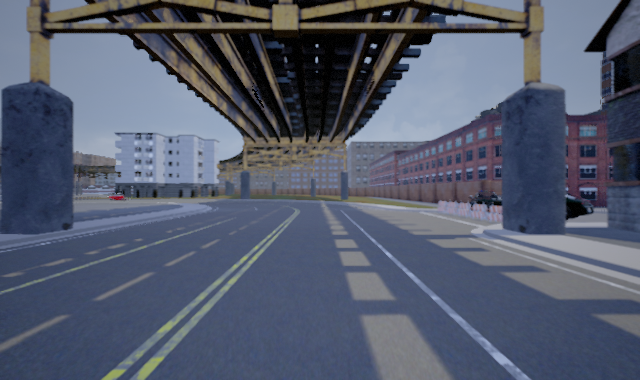vehicle: (507, 190, 594, 220)
